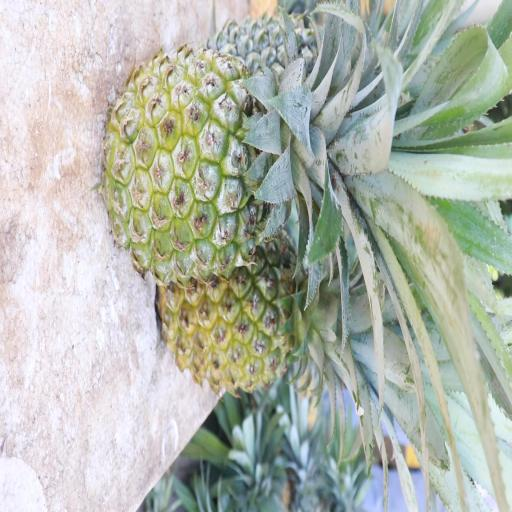------------------------------: (96, 40, 398, 290)
Pineapple - v8 v1: (153, 205, 388, 395)
